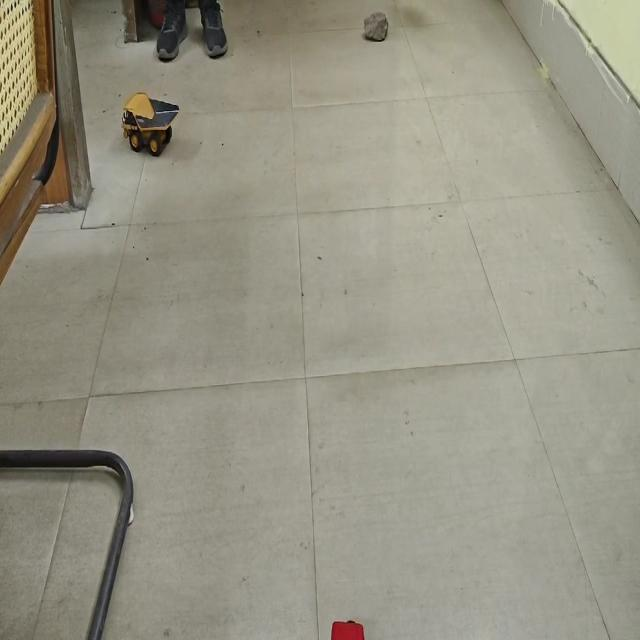dump_truck: (123, 91, 177, 156)
